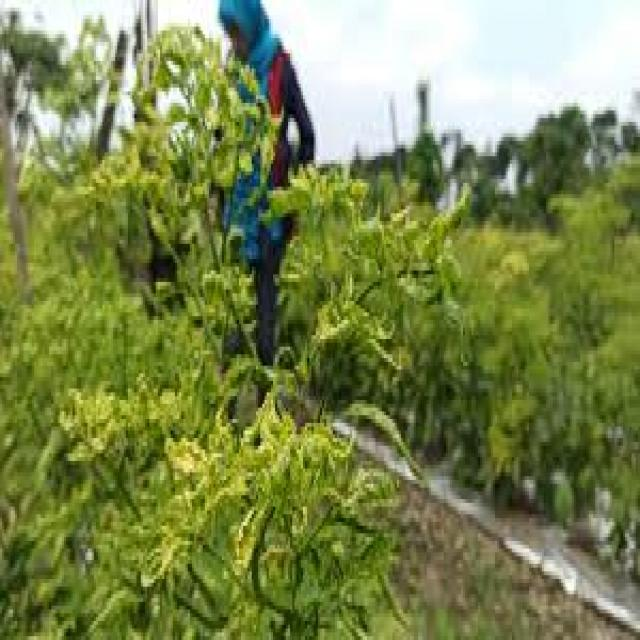virus_kuning: (155, 417, 214, 486), (223, 494, 261, 596)
